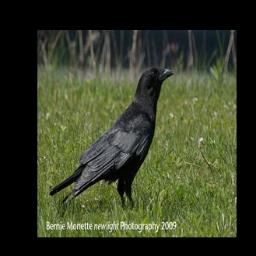Crow: (48, 66, 175, 213)
